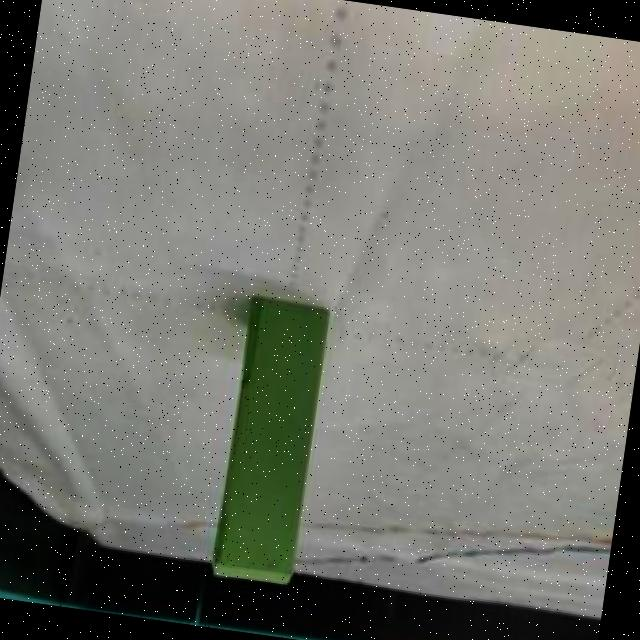greenbox: (209, 294, 332, 592)
